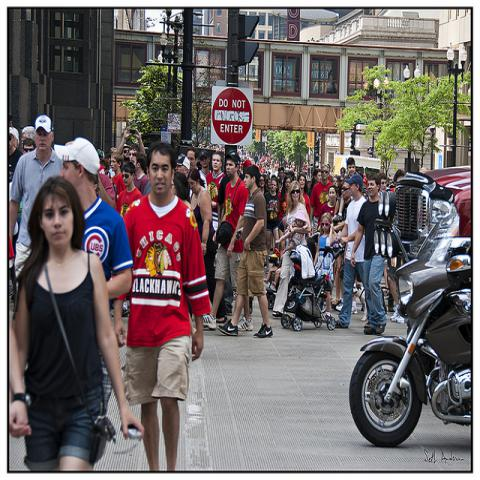car: (373, 163, 472, 260)
motorcycle: (348, 257, 474, 447)
